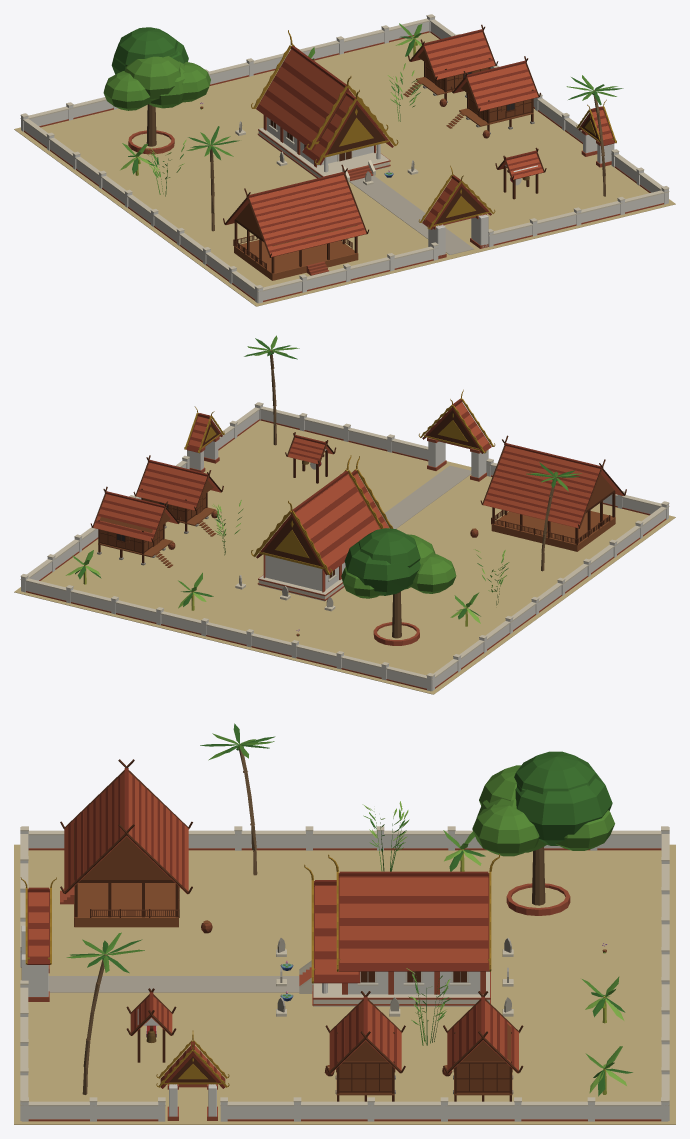
File: temple_1.glb
The picture shows the model from 3 angles, top to bottom: view 1: azimuth 30°, elevation 25°; view 2: azimuth 150°, elevation 25°; view 3: azimuth 270°, elevation 25°; orthographic projection. The views are drawn at different scales.
Parts seen in each view (by area): view 1: body; view 2: body; view 3: body.
Part boxes in pixels (box(x1,y1,x2,y2)): body: box(14, 14, 675, 306); body: box(14, 335, 675, 694); body: box(14, 723, 675, 1124).
Size of the model in its own units: 47.9 by 12.05 by 47.9.
